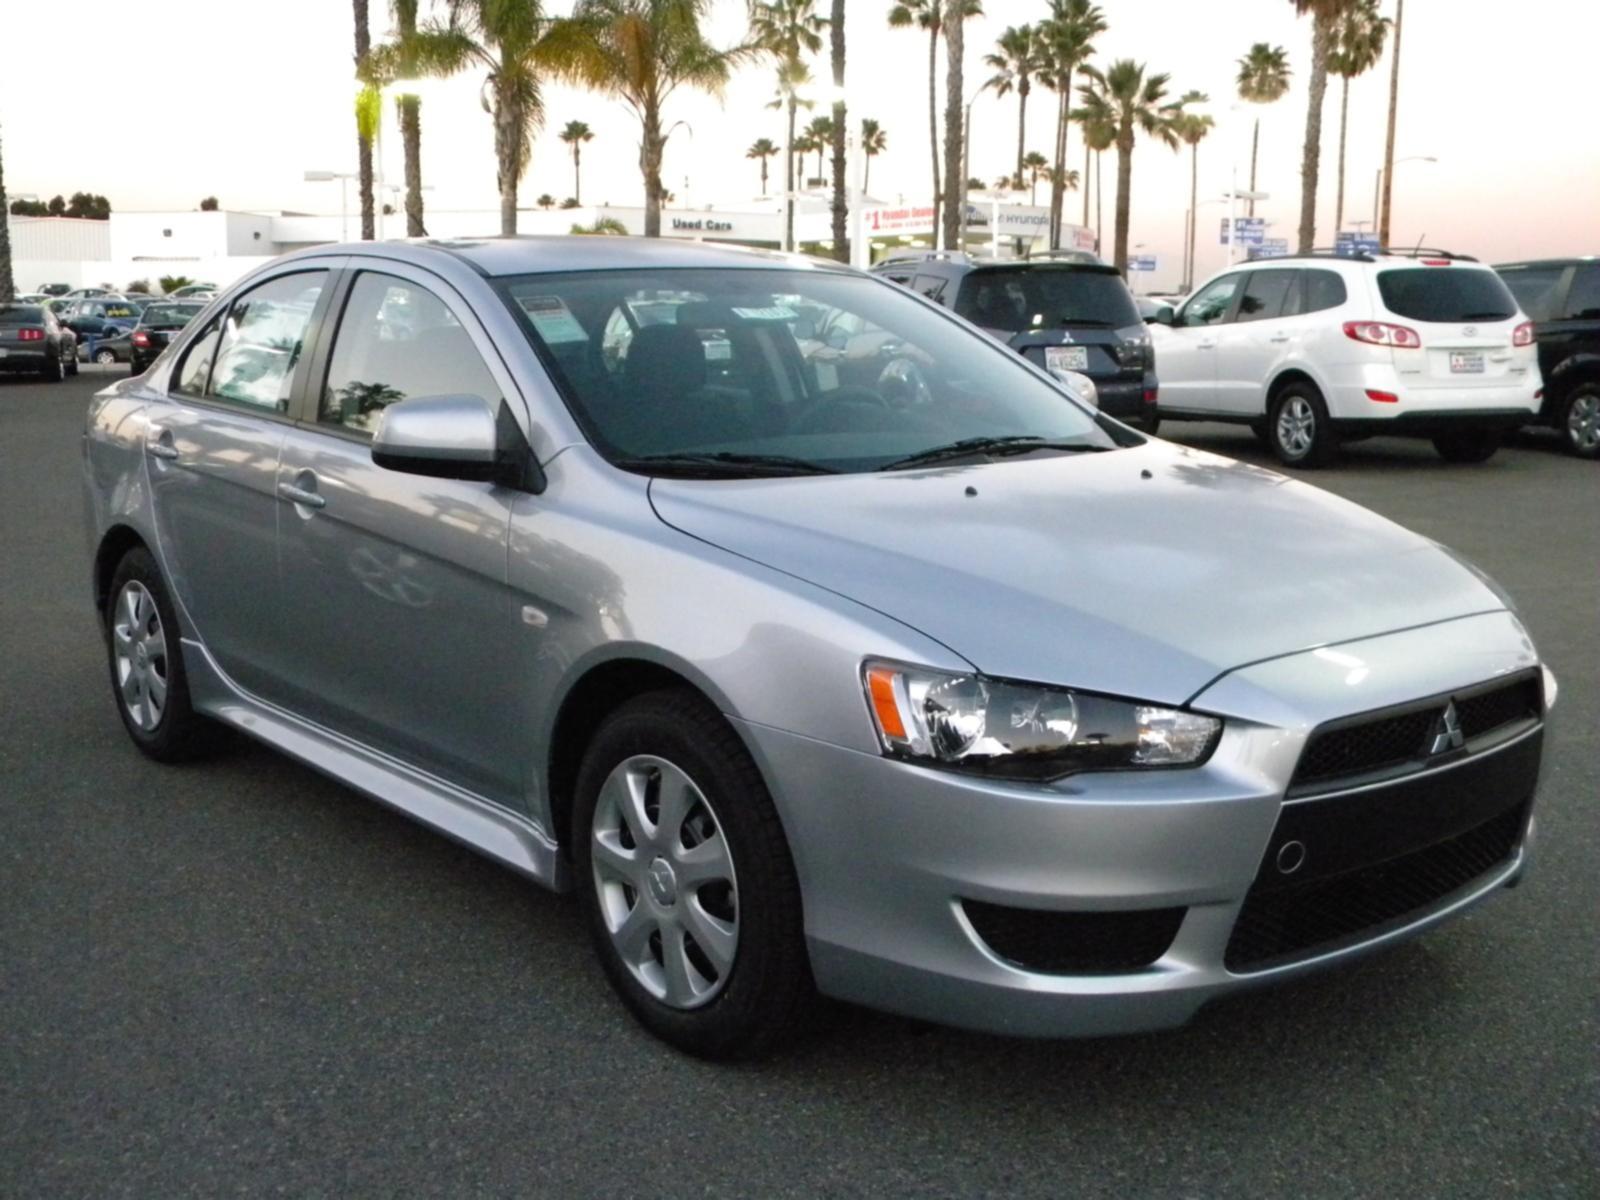Mitsubishi: (1416, 688, 1499, 768)
